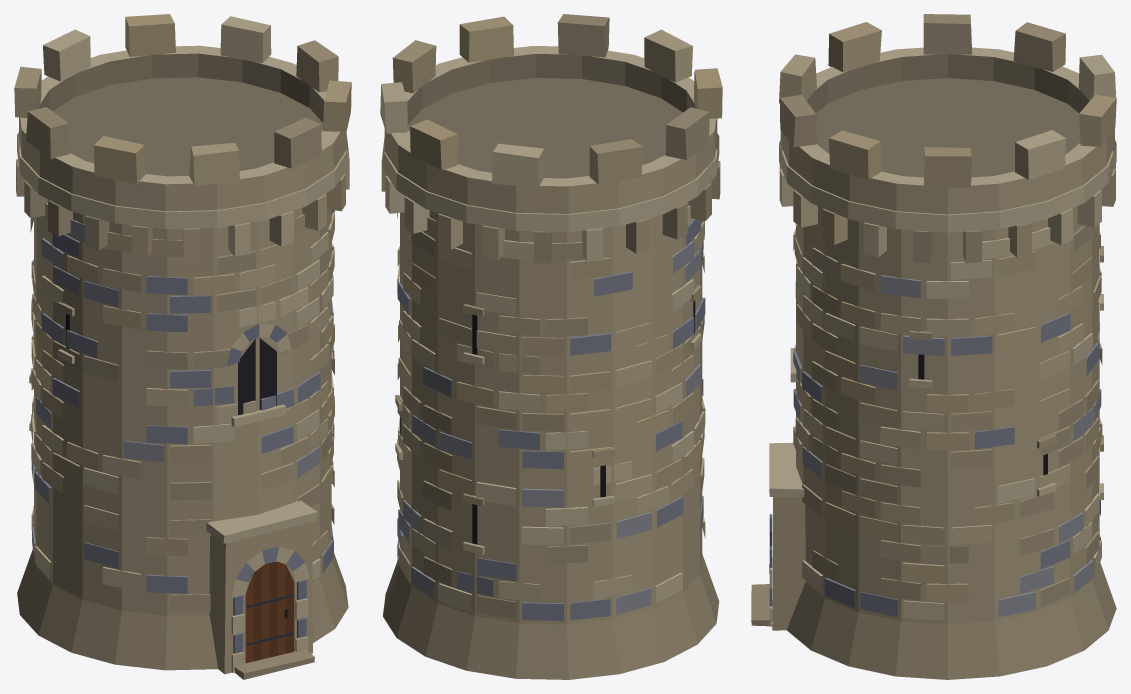
Rendered from town_keep.glb.
3 renders of one model, left to right at view 1: azimuth 30°, elevation 25°; view 2: azimuth 150°, elevation 25°; view 3: azimuth 270°, elevation 25°, orthographic.
Parts seen in each view (by area): view 1: town_keep; view 2: town_keep; view 3: town_keep.
Boxes of the visible parts, x1,y1,x2,y2 form: town_keep: (14,14,351,679); town_keep: (380,14,722,679); town_keep: (751,14,1116,679).
Bounding box in the file's own units: 8.94 × 15.24 × 9.63.
